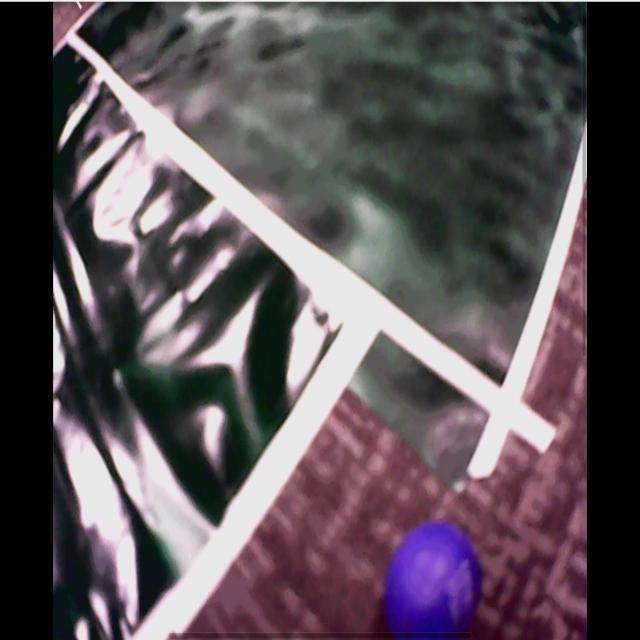ball: (388, 524, 477, 640)
